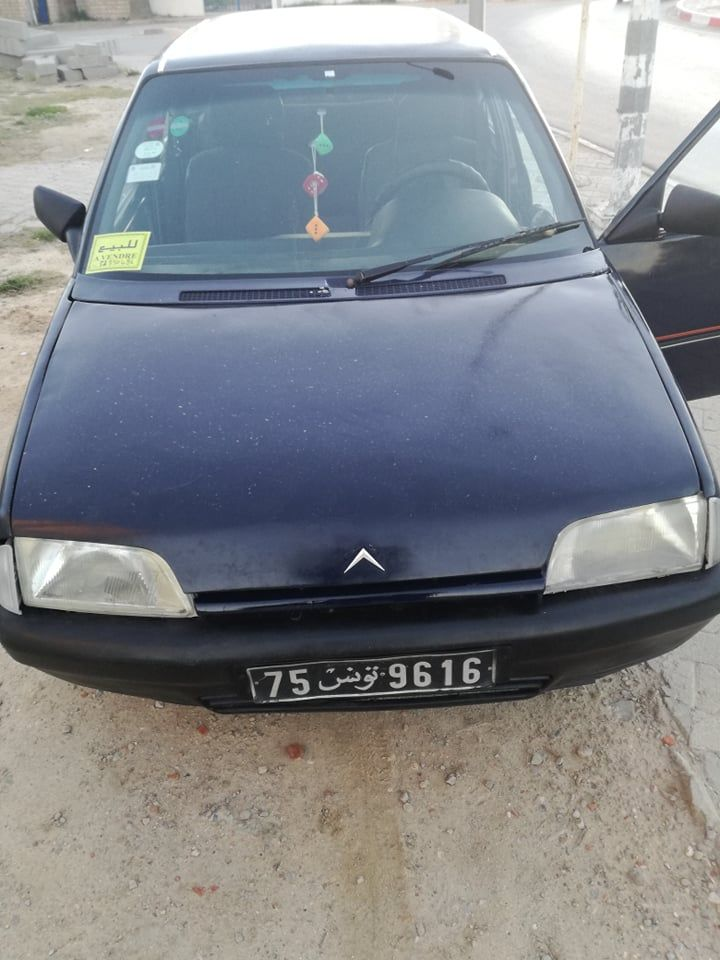LP: (246, 651, 506, 708)
